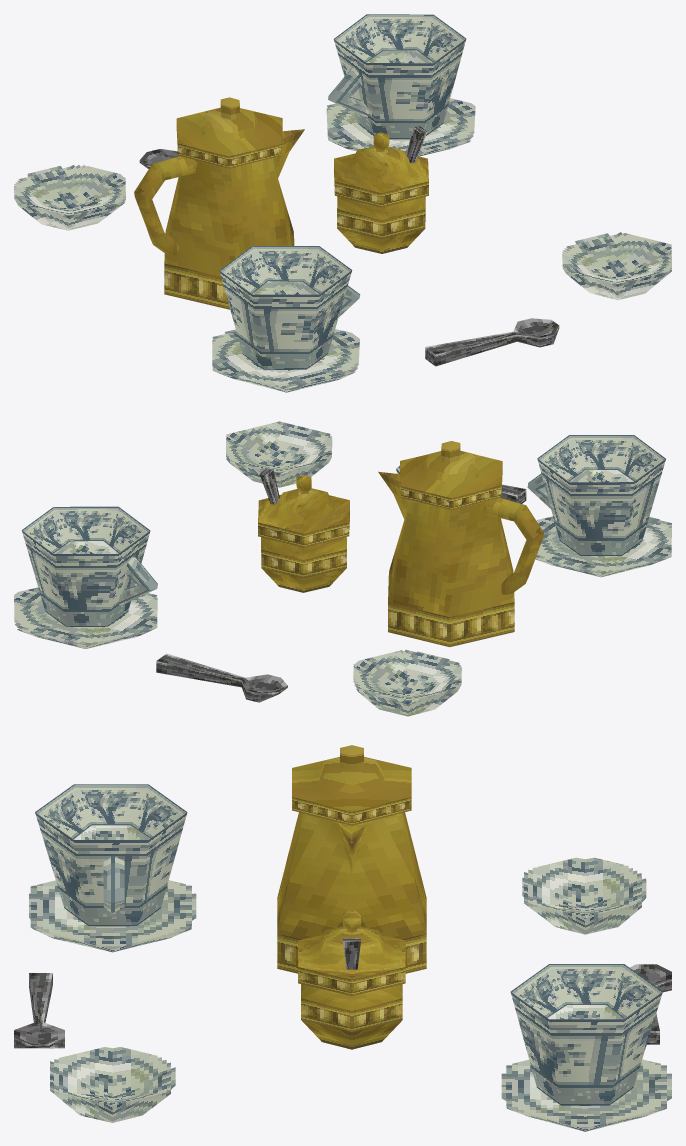
The model's file is o-syo1.glb.
3 views of the same model, one above another, from view 1: azimuth 30°, elevation 25°; view 2: azimuth 150°, elevation 25°; view 3: azimuth 270°, elevation 25° (orthographic). The views are drawn at different scales.
Parts seen in each view (by area): view 1: o_syo1; view 2: o_syo1; view 3: o_syo1.
Part boxes in pixels (x1,y1,x2,y2): o_syo1: (14, 14, 671, 392); o_syo1: (14, 421, 671, 716); o_syo1: (14, 745, 671, 1131).
Size of the model in its own units: 207 by 76 by 220.
Materials: 6 (6 with a texture image).
